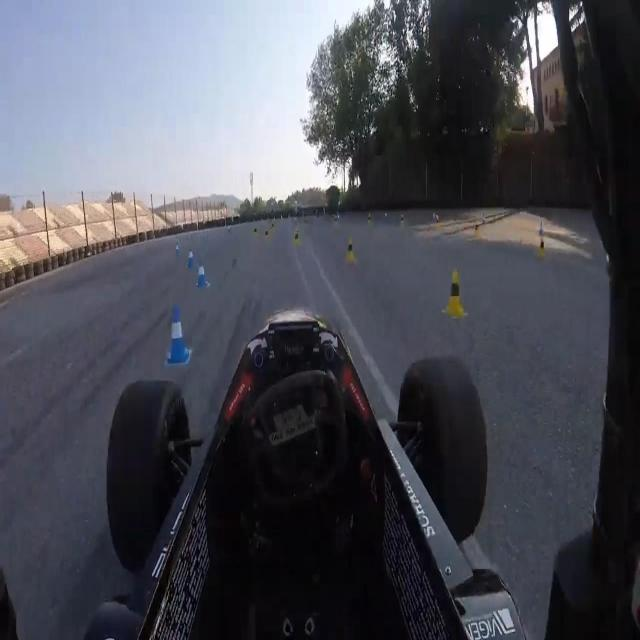blue_cone: (163, 306, 189, 363), (197, 260, 208, 287), (188, 250, 195, 270), (539, 220, 545, 236), (175, 242, 180, 258)
yellow_cone: (444, 268, 466, 318), (344, 239, 356, 266), (536, 237, 546, 262), (293, 228, 300, 248), (436, 213, 442, 233), (473, 223, 479, 240), (400, 213, 405, 233), (264, 228, 270, 243), (366, 214, 372, 228), (254, 228, 258, 242)
